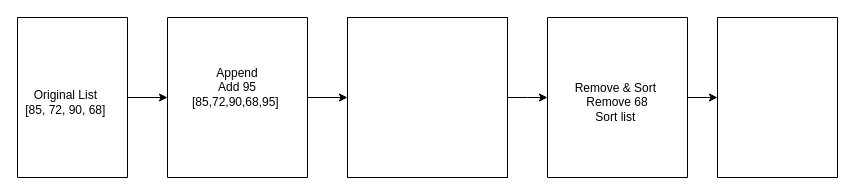
The diagram is 855 pixels wide and 195 high, and some of its shapes have lost their labels. Here are the shapes that lost their labels. From the top down, the centre of each, then its label:
At pixel 427 97: "Insert Insert 80 at index 1 [85,80,72,90,68,95]".
At pixel 777 97: "Final List [72,80,85,90,95]".
